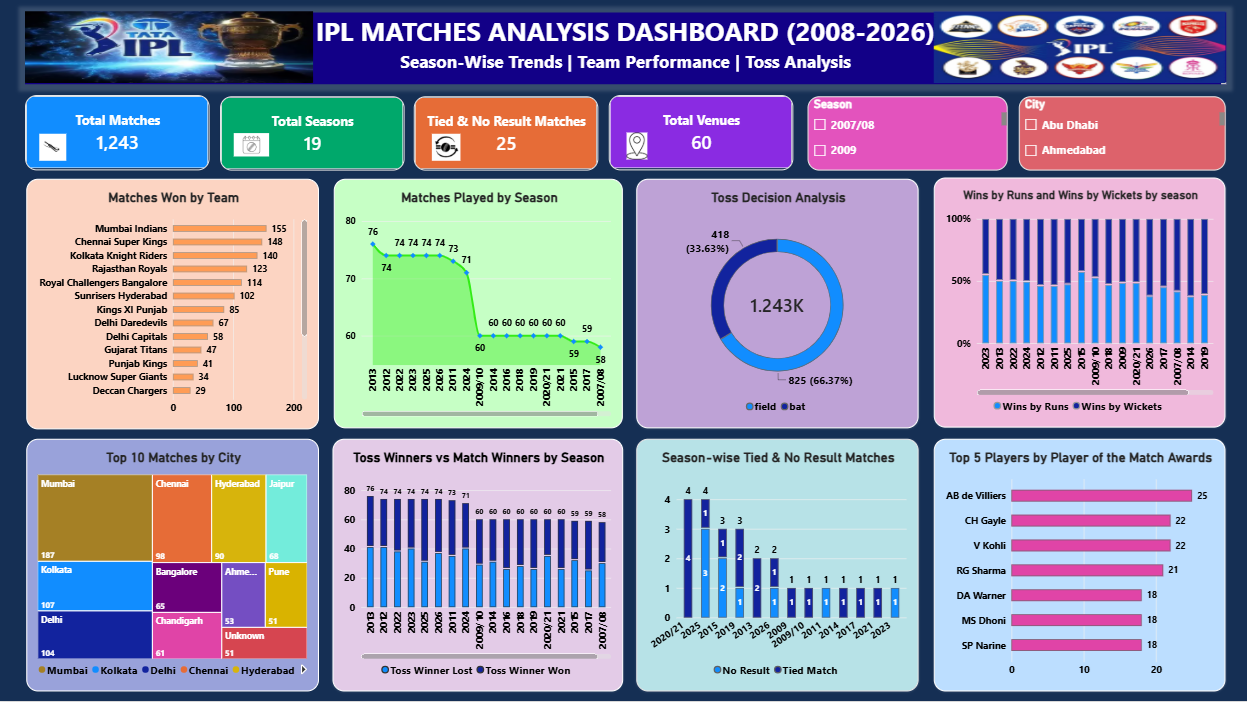

The page's visual inventory and layout, read from the dashboard file:
{"tool":"powerbi","page":{"name":"Page 1","canvas":[1920,1080],"ordinal":0},"visuals":[{"type":"cardVisual","fields":{"Data":["IPL_Matches_Data_2008_2026.Total Seasons"]},"box":[338.4,148.4,284.1,114],"z":0},{"type":"cardVisual","fields":{"Data":["IPL_Matches_Data_2008_2026.Total Venues"]},"box":[937.4,146.6,284.1,115.8],"z":1000},{"type":"image","box":[52.5,193.6,52.5,39.8],"z":2000},{"type":"image","box":[360.1,171.9,54.3,103.2],"z":3000},{"type":"image","box":[951.9,204.5,56.1,41.6],"z":4000},{"type":"clusteredBarChart","title":"Matches Won by Team","fields":{"Category":["IPL_Matches_Data_2008_2026.winner"],"Y":["CountNonNull(IPL_Matches_Data_2008_2026.winner)"]},"box":[39.8,275.1,450.6,385.5],"z":5000},{"type":"donutChart","title":"Toss Decision Analysis","fields":{"Category":["IPL_Matches_Data_2008_2026.toss_decision"],"Y":["CountNonNull(IPL_Matches_Data_2008_2026.toss_decision)"]},"box":[979,275.1,434.3,383.6],"z":6000},{"type":"treemap","title":"Top 10 Matches by City","fields":{"Group":["IPL_Matches_Data_2008_2026.city"],"Values":["CountNonNull(IPL_Matches_Data_2008_2026.match_number)"]},"box":[39.8,675,450.6,389.1],"z":7000},{"type":"lineChart","title":"Matches Played by Season","fields":{"Category":["IPL_Matches_Data_2008_2026.season"],"Y":["CountNonNull(IPL_Matches_Data_2008_2026.match_number)"]},"box":[513.9,275.1,445.2,383.6],"z":8000},{"type":"lineStackedColumnComboChart","title":"Toss Winners vs Match Winners by Season","fields":{"Category":["IPL_Matches_Data_2008_2026.season"],"Series":["IPL_Matches_Data_2008_2026.Toss Match Result"],"Y":["CountNonNull(IPL_Matches_Data_2008_2026.Toss Match Result)"]},"box":[512.1,675,447,389.1],"z":9000},{"type":"textbox","title":"IPL MATCHES ANALYSIS DASHBOARD (2008-2026) ","box":[38,19,1847.7,110.4],"z":10000},{"type":"slicer","fields":{"Values":["IPL_Matches_Data_2008_2026.season"]},"box":[1241.4,148.4,307.6,114],"z":11000},{"type":"slicer","fields":{"Values":["IPL_Matches_Data_2008_2026.city"]},"box":[1567.2,148.4,318.5,114],"z":12000},{"type":"image","box":[38,18.1,443.4,110.4],"z":13000},{"type":"image","box":[1436.9,18.1,448.8,110.4],"z":14000},{"type":"hundredPercentStackedColumnChart","fields":{"Category":["IPL_Matches_Data_2008_2026.season"],"Y":["IPL_Matches_Data_2008_2026.Wins by Runs","IPL_Matches_Data_2008_2026.Wins by Wickets"]},"box":[1436.7,273.8,448.7,384.9],"z":15000},{"type":"cardVisual","fields":{"Data":["IPL_Matches_Data_2008_2026.Total Matches"]},"box":[38,146.6,284.1,115.8],"z":16000},{"type":"cardVisual","fields":{"Data":["IPL_Matches_Data_2008_2026.Tied & Result Matches"]},"box":[637,148.4,284.1,114],"z":17000},{"type":"image","box":[649.7,206.3,72.4,41.6],"z":18000},{"type":"image","box":[39.8,206.3,81.4,41.6],"z":19000},{"type":"columnChart","title":"Season-wise Tied & No Result Matches","fields":{"Category":["IPL_Matches_Data_2008_2026.season"],"Series":["IPL_Matches_Data_2008_2026.Result Type"],"Y":["IPL_Matches_Data_2008_2026.Tied & No Result Matches"]},"box":[979,675,434,389],"z":20000},{"type":"clusteredBarChart","title":"Top 5 Players by Player of the Match Awards","fields":{"Category":["IPL_Matches_Data_2008_2026.player_of_match"],"Y":["CountNonNull(IPL_Matches_Data_2008_2026.player_of_match)"]},"box":[1436.9,675,448.8,389.1],"z":21000}]}

Visuals, with their boxes in screenshot pixels (x1, y1, x2, y2), scaled from the page's 1920x1080 canvas onto the 1247x702 screenshot:
cardVisual - IPL_Matches_Data_2008_2026.Total Seasons: left=220, top=96, right=404, bottom=171
cardVisual - IPL_Matches_Data_2008_2026.Total Venues: left=609, top=95, right=793, bottom=171
image: left=34, top=126, right=68, bottom=152
image: left=234, top=112, right=269, bottom=179
image: left=618, top=133, right=655, bottom=160
"Matches Won by Team" clusteredBarChart: left=26, top=179, right=319, bottom=429
"Toss Decision Analysis" donutChart: left=636, top=179, right=918, bottom=428
"Top 10 Matches by City" treemap: left=26, top=439, right=319, bottom=692
"Matches Played by Season" lineChart: left=334, top=179, right=623, bottom=428
"Toss Winners vs Match Winners by Season" lineStackedColumnComboChart: left=333, top=439, right=623, bottom=692
"IPL MATCHES ANALYSIS DASHBOARD (2008-2026) " textbox: left=25, top=12, right=1225, bottom=84
slicer - IPL_Matches_Data_2008_2026.season: left=806, top=96, right=1006, bottom=171
slicer - IPL_Matches_Data_2008_2026.city: left=1018, top=96, right=1225, bottom=171
image: left=25, top=12, right=313, bottom=84
image: left=933, top=12, right=1225, bottom=84
hundredPercentStackedColumnChart - IPL_Matches_Data_2008_2026.season x IPL_Matches_Data_2008_2026.Wins by Runs: left=933, top=178, right=1225, bottom=428
cardVisual - IPL_Matches_Data_2008_2026.Total Matches: left=25, top=95, right=209, bottom=171
cardVisual - IPL_Matches_Data_2008_2026.Tied & Result Matches: left=414, top=96, right=598, bottom=171
image: left=422, top=134, right=469, bottom=161
image: left=26, top=134, right=79, bottom=161
"Season-wise Tied & No Result Matches" columnChart: left=636, top=439, right=918, bottom=692
"Top 5 Players by Player of the Match Awards" clusteredBarChart: left=933, top=439, right=1225, bottom=692
